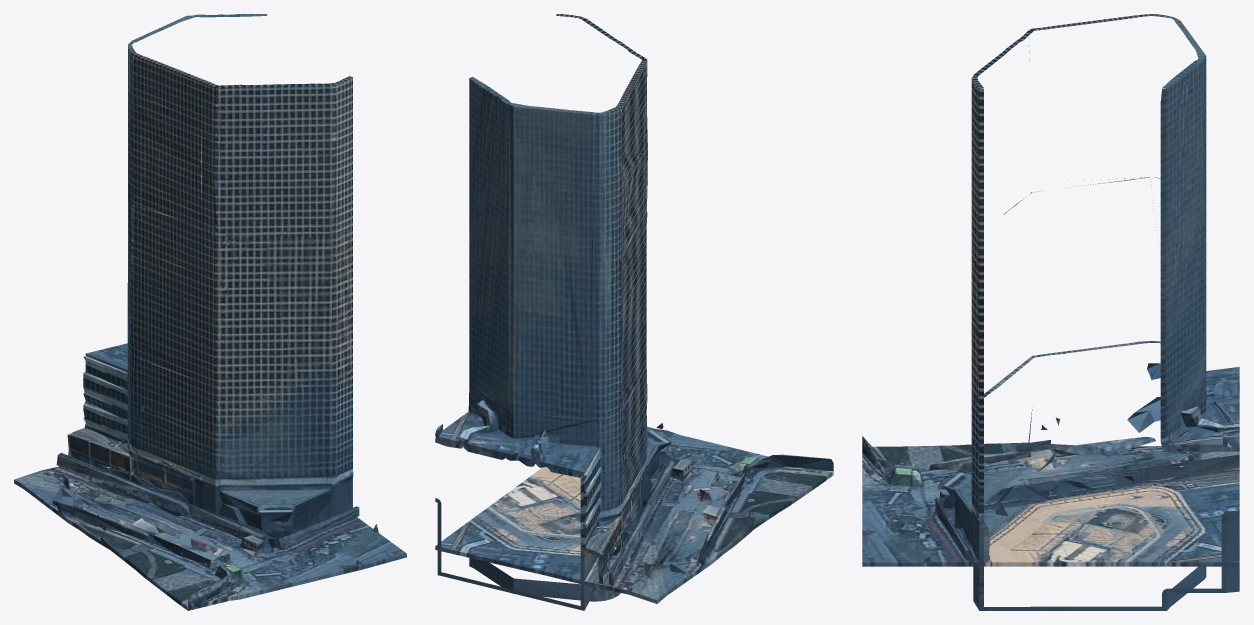
Rendered from chunk_-1_8.glb.
The picture shows the model from 3 angles, left to right: view 1: azimuth 30°, elevation 25°; view 2: azimuth 150°, elevation 25°; view 3: azimuth 270°, elevation 25°; orthographic projection. The views are drawn at different scales.
Parts seen in each view (by area): view 1: hero-chunk; view 2: hero-chunk; view 3: hero-chunk.
Boxes of the visible parts, <box> form: hero-chunk: <box>14,14,406,610</box>; hero-chunk: <box>435,14,833,610</box>; hero-chunk: <box>862,14,1239,610</box>.
Bounding box in the file's own units: 55.43 × 116 × 76.32.
3 materials, 3 textured.
